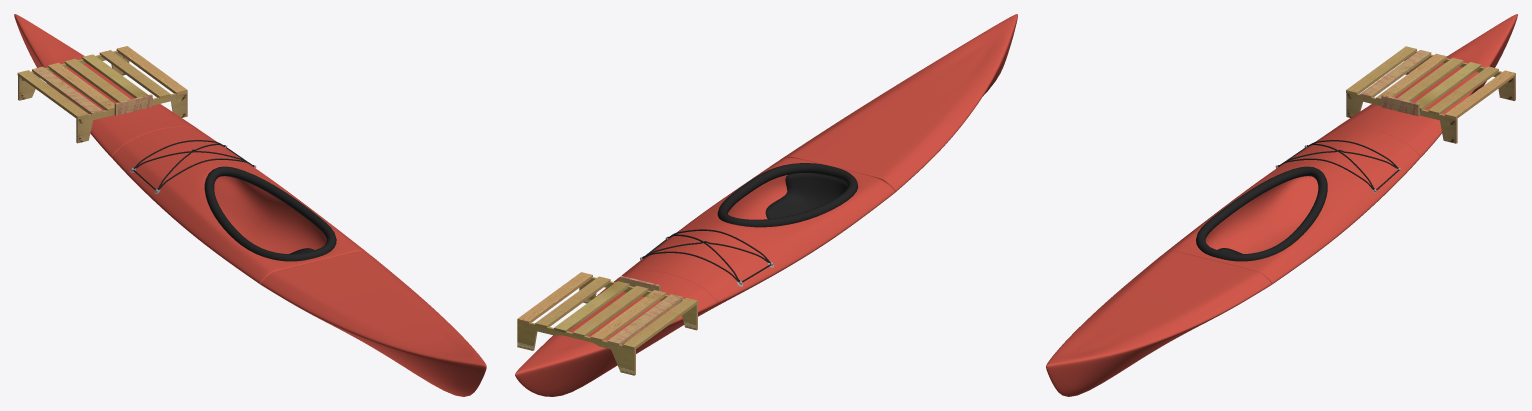
File: kayak_detailed.glb
3 renders of one model, left to right at view 1: azimuth 30°, elevation 25°; view 2: azimuth 150°, elevation 25°; view 3: azimuth 330°, elevation 25°, orthographic. The views are drawn at different scales.
Visible parts, largest first — view 1: Kayak.001, Cube.006, Cube.008, Cube.013, Cube.014, Cube.009, Cube.010, Cube.012, Cube.011, Cube.007; view 2: Kayak.001, Cube.006, Cube.008, Cube.009, Cube.010, Cube.013, Cube.011, Cube.014, Cube.012; view 3: Kayak.001, Cube.006, Cube.009, Cube.013, Cube.014, Cube.008, Cube.012, Cube.010, Cube.011, Cube.007.
Boxes of the visible parts, x1,y1,x2,y2 form: Kayak.001: (14, 14, 486, 396); Cube.006: (18, 50, 187, 143); Cube.008: (17, 70, 88, 119); Cube.013: (99, 50, 170, 99); Cube.014: (116, 46, 187, 95); Cube.009: (32, 66, 102, 115); Cube.010: (47, 62, 114, 111); Cube.012: (82, 54, 152, 100); Cube.011: (64, 58, 130, 102); Cube.007: (114, 94, 152, 115); Kayak.001: (515, 14, 1017, 396); Cube.006: (517, 277, 697, 375); Cube.008: (622, 298, 698, 350); Cube.009: (607, 294, 682, 346); Cube.010: (590, 290, 666, 342); Cube.013: (535, 276, 610, 328); Cube.011: (572, 285, 648, 337); Cube.014: (517, 272, 592, 324); Cube.012: (554, 281, 629, 333); Kayak.001: (1046, 14, 1517, 396); Cube.006: (1346, 51, 1515, 143); Cube.009: (1360, 50, 1431, 98); Cube.013: (1428, 66, 1498, 115); Cube.014: (1445, 70, 1515, 119); Cube.008: (1346, 46, 1416, 95); Cube.012: (1415, 62, 1481, 111); Cube.010: (1376, 53, 1446, 101); Cube.011: (1398, 58, 1463, 101); Cube.007: (1381, 95, 1419, 116).
Size of the model in its own units: 1.23 by 0.7341 by 8.84.
4 materials, 1 textured.
